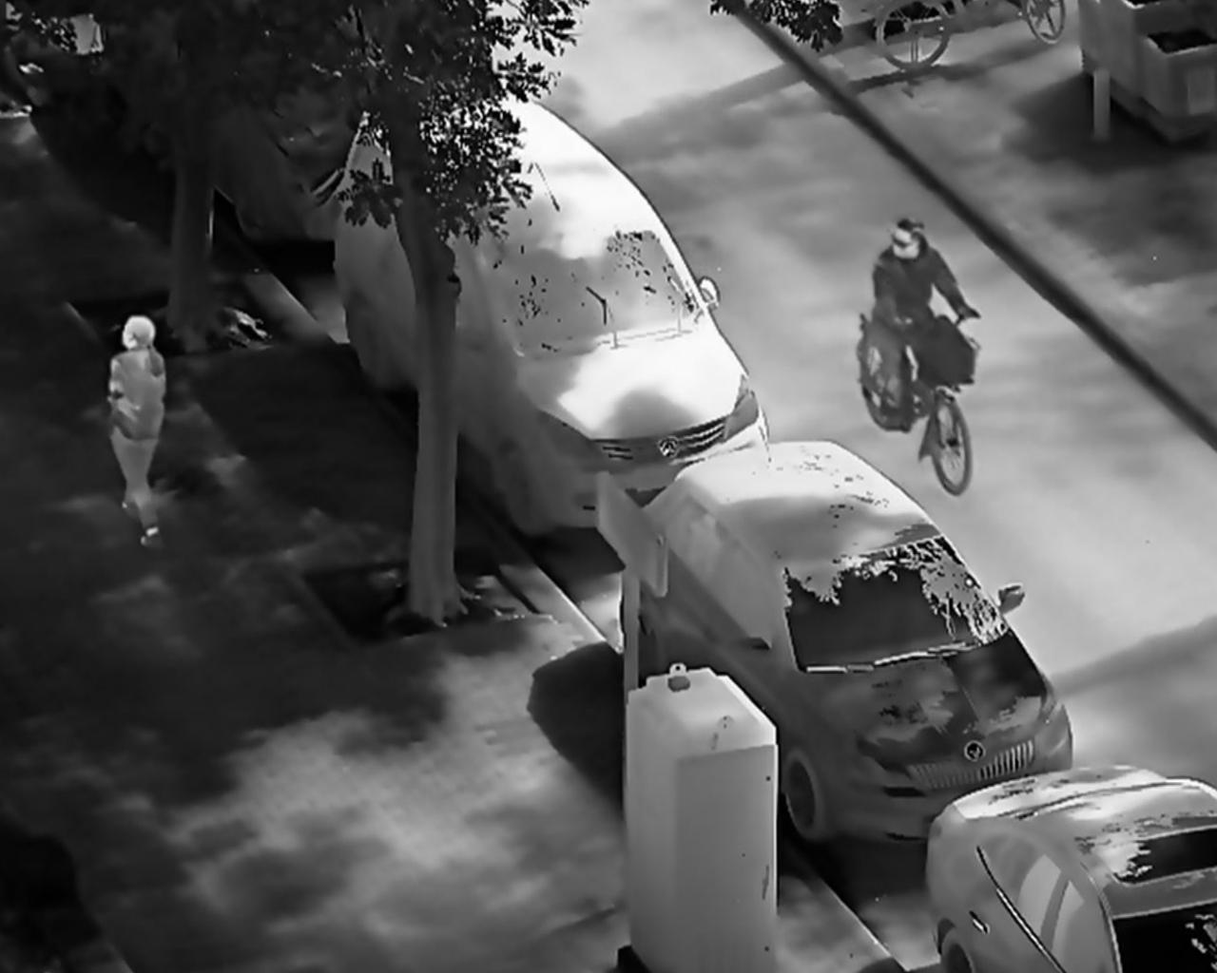person: (871, 216, 981, 441), (104, 311, 171, 552)
